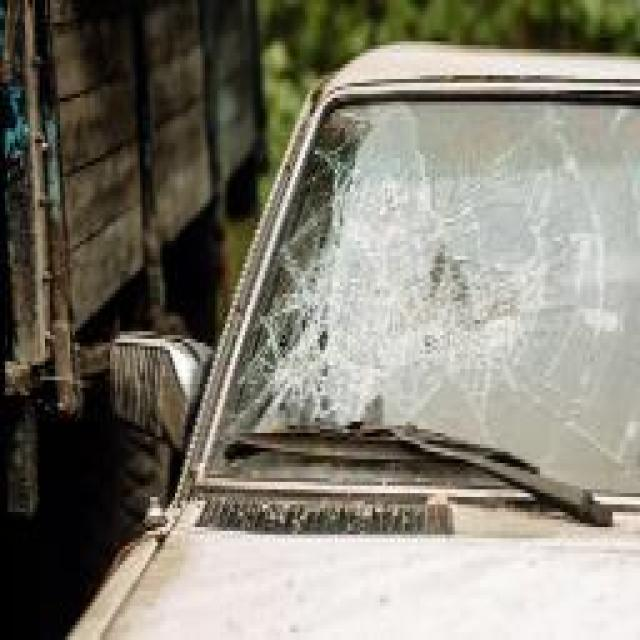Windshield: (208, 94, 640, 493)
